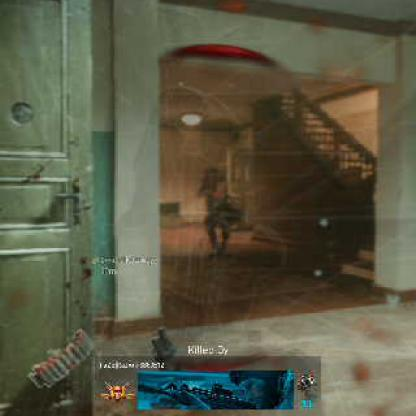enemy: (199, 168, 242, 257)
